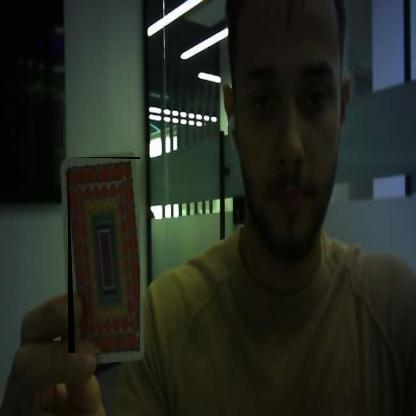BACK: (68, 158, 140, 354)
